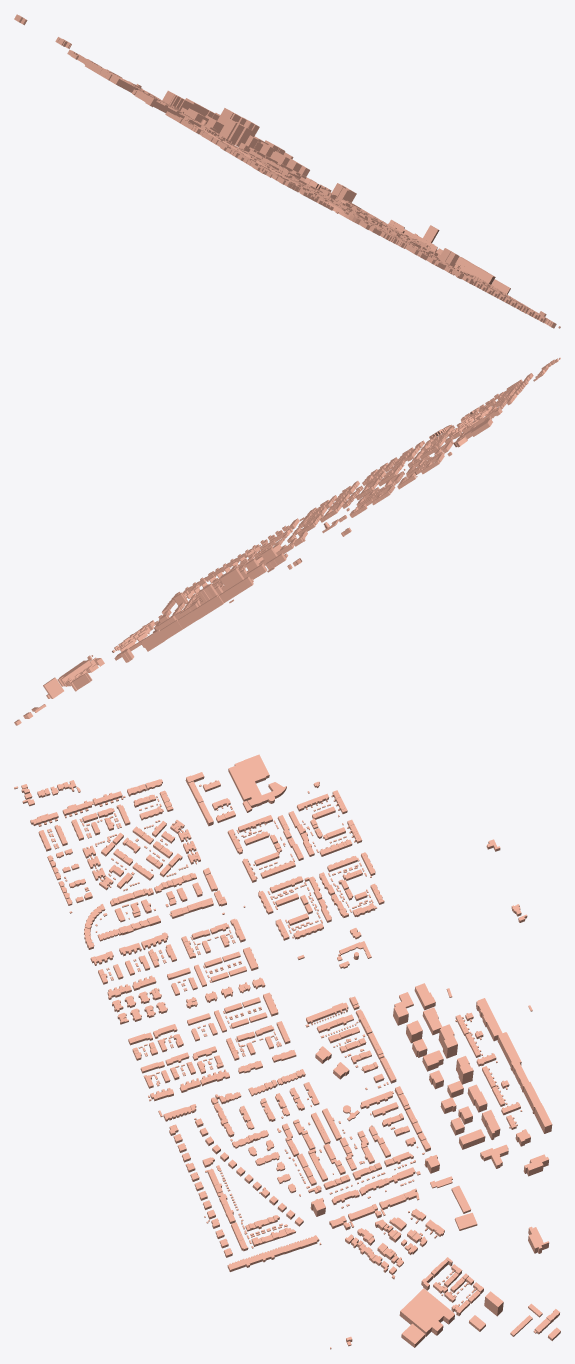
The picture shows the model from 3 angles, top to bottom: view 1: azimuth 30°, elevation 25°; view 2: azimuth 150°, elevation 25°; view 3: azimuth 270°, elevation 25°; orthographic projection. The views are drawn at different scales.
Bounding box in the file's own units: 976 × 765 × 1011.
